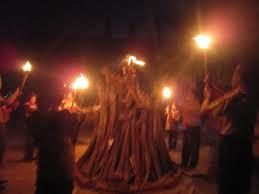fire: (192, 31, 214, 51), (68, 73, 91, 91), (125, 53, 145, 69), (19, 58, 33, 73), (161, 84, 174, 100)
